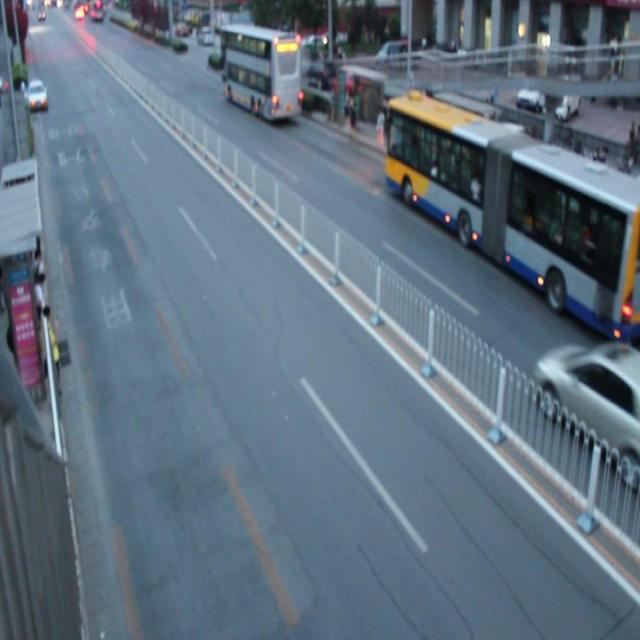car: (532, 336, 640, 480)
van: (384, 98, 640, 328), (220, 23, 301, 122)
